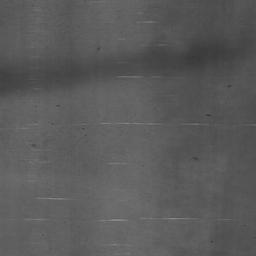Waist folding: (24, 195, 231, 223), (0, 120, 256, 135), (0, 86, 61, 100), (173, 245, 256, 252), (115, 74, 178, 79), (106, 19, 157, 25), (83, 242, 130, 248), (32, 3, 57, 13), (141, 43, 167, 48), (108, 161, 127, 166)
